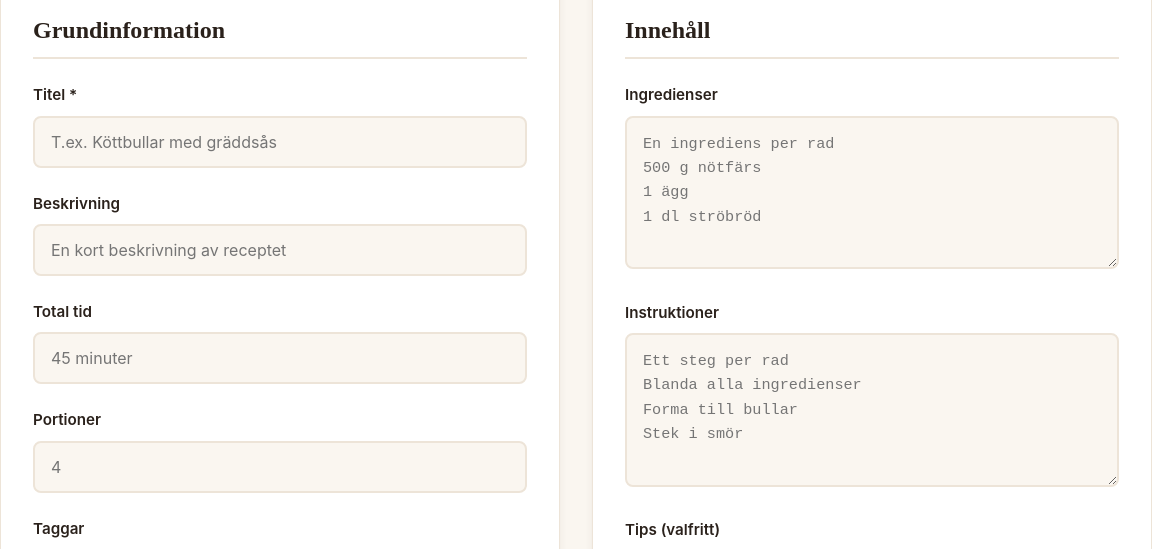
Test case: RecipeCreator › should copy markdown to clipboard when copy button is clicked
Type "Test Recipe" into the field labelled "Titel *" at (280, 142), box [33,116,527,168]
(page scrolled)
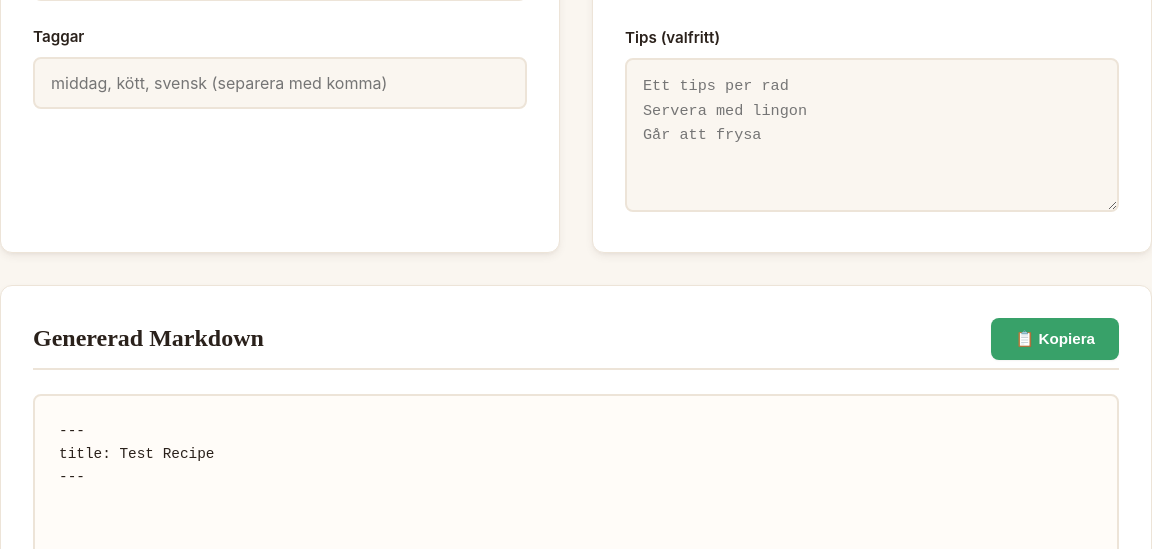
Click the button "📋 Kopiera" at (1055, 339), box [991,318,1119,360]
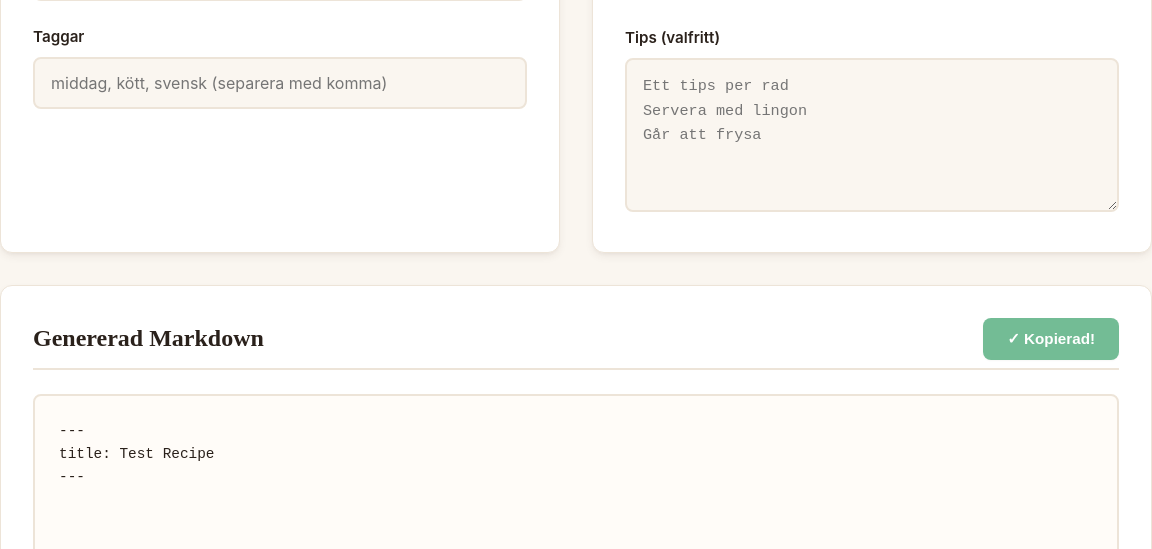
Expected: the button "✓ Kopierad!" is shown, [983,318,1119,360]
